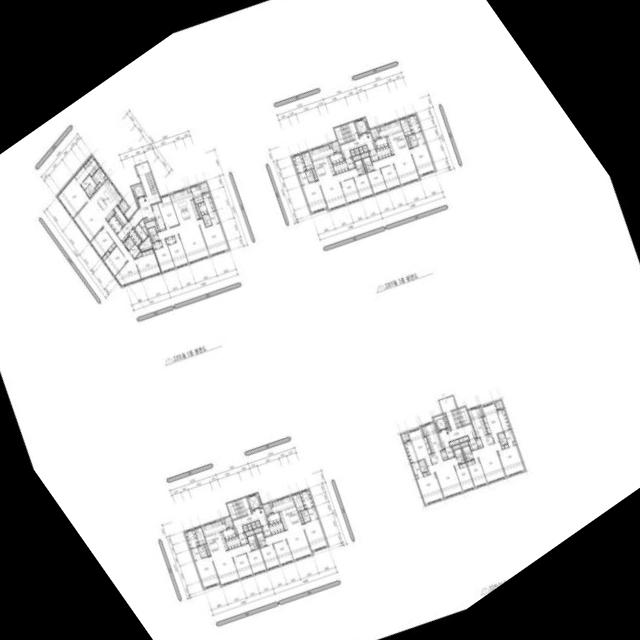background: (0, 0, 640, 640)
space_balconi: (117, 199, 128, 213), (198, 181, 208, 193)
space_bedroom: (56, 176, 88, 217), (197, 217, 228, 255), (497, 443, 524, 476), (415, 471, 442, 504), (407, 428, 431, 465), (193, 555, 219, 588), (481, 402, 502, 442), (134, 247, 160, 279), (101, 245, 127, 276), (302, 518, 327, 550), (409, 143, 434, 175), (301, 180, 326, 212), (89, 227, 115, 257), (156, 194, 178, 228), (167, 234, 188, 267), (154, 238, 174, 272), (453, 462, 474, 491), (466, 457, 486, 487), (245, 548, 265, 574), (259, 543, 279, 569), (339, 177, 359, 203), (380, 163, 400, 189), (232, 553, 252, 578), (272, 539, 292, 564), (353, 173, 373, 198), (366, 168, 386, 193), (151, 240, 162, 249), (165, 235, 175, 244)
space_dressroom: (82, 155, 99, 176), (183, 528, 198, 548), (406, 113, 421, 133), (291, 153, 306, 173), (496, 409, 510, 430), (403, 441, 417, 462), (299, 489, 313, 508), (201, 192, 214, 212), (410, 461, 422, 478), (503, 429, 514, 447), (197, 201, 207, 214)
space_elevator: (353, 117, 369, 135), (432, 414, 447, 431), (246, 493, 261, 510), (130, 183, 144, 198)
space_elevator_hall: (128, 162, 160, 227), (437, 395, 475, 447), (339, 132, 374, 158), (232, 508, 267, 533)
space_front: (150, 203, 165, 230), (116, 221, 132, 241), (127, 227, 142, 246), (107, 215, 121, 233), (375, 145, 391, 159), (268, 520, 283, 534), (225, 535, 240, 549), (332, 160, 347, 173), (444, 446, 454, 458), (237, 532, 247, 544), (467, 438, 477, 450), (260, 524, 270, 536), (345, 157, 355, 169), (368, 149, 378, 161)
space_kitchen: (90, 178, 122, 220), (168, 188, 199, 224), (467, 405, 493, 446), (270, 495, 301, 529), (378, 119, 408, 154), (200, 519, 227, 556), (308, 144, 334, 180), (420, 422, 442, 464), (222, 527, 235, 539), (266, 512, 280, 523), (329, 152, 343, 163), (374, 137, 387, 148)
space_living_room: (72, 198, 140, 286), (156, 219, 209, 262), (264, 525, 312, 560), (371, 149, 419, 184), (318, 167, 358, 209), (211, 543, 250, 585), (427, 456, 461, 497), (471, 441, 505, 482)
space_other: (113, 205, 127, 226), (189, 184, 203, 203), (300, 150, 313, 169), (91, 167, 105, 184), (193, 526, 205, 545), (291, 492, 303, 511), (399, 117, 411, 135), (134, 223, 146, 240), (139, 235, 151, 249), (144, 219, 157, 231), (138, 218, 147, 235), (439, 448, 447, 460), (474, 437, 482, 448), (195, 204, 201, 217), (448, 438, 458, 445), (458, 435, 468, 441), (298, 511, 303, 523), (204, 543, 209, 555), (311, 168, 316, 180), (94, 182, 101, 190), (405, 136, 410, 147), (451, 443, 460, 449), (479, 406, 484, 416), (460, 440, 468, 446), (253, 527, 261, 533), (352, 154, 360, 160), (419, 427, 424, 436), (250, 521, 256, 528), (245, 530, 253, 535), (360, 152, 368, 157), (135, 251, 141, 257), (254, 520, 260, 526), (353, 148, 359, 154), (357, 146, 363, 152), (242, 524, 247, 531), (135, 199, 139, 207), (446, 421, 450, 429), (443, 413, 447, 421), (246, 523, 251, 529), (362, 145, 367, 151), (349, 149, 354, 155), (142, 217, 147, 221), (186, 187, 190, 192), (103, 175, 107, 179), (269, 501, 272, 506), (376, 126, 379, 131), (414, 474, 417, 478), (426, 470, 429, 474), (512, 441, 515, 444), (501, 445, 504, 448)
space_outdoor_room: (262, 502, 272, 514), (330, 140, 340, 152), (369, 127, 379, 139), (223, 516, 232, 528), (400, 432, 409, 442), (494, 400, 503, 410)
space_staircase: (333, 121, 358, 143), (226, 497, 250, 519), (450, 406, 470, 427), (144, 171, 157, 194)
space_toilet: (80, 174, 96, 197), (73, 165, 88, 183), (461, 445, 473, 460), (246, 534, 257, 550), (255, 531, 266, 547), (147, 226, 158, 242), (453, 448, 464, 463), (362, 156, 373, 171), (354, 159, 365, 174), (207, 210, 218, 224), (128, 243, 139, 257), (306, 506, 317, 520), (190, 546, 201, 560), (414, 131, 425, 144), (297, 171, 308, 184), (123, 239, 131, 250), (126, 236, 134, 246), (496, 431, 505, 439), (197, 544, 205, 552), (419, 464, 427, 472), (417, 458, 425, 466), (302, 514, 310, 522), (407, 133, 415, 141), (306, 174, 314, 182), (201, 213, 209, 220), (203, 219, 211, 226), (300, 509, 308, 516), (199, 550, 207, 557), (499, 437, 507, 444), (409, 139, 417, 146), (304, 169, 312, 176)
